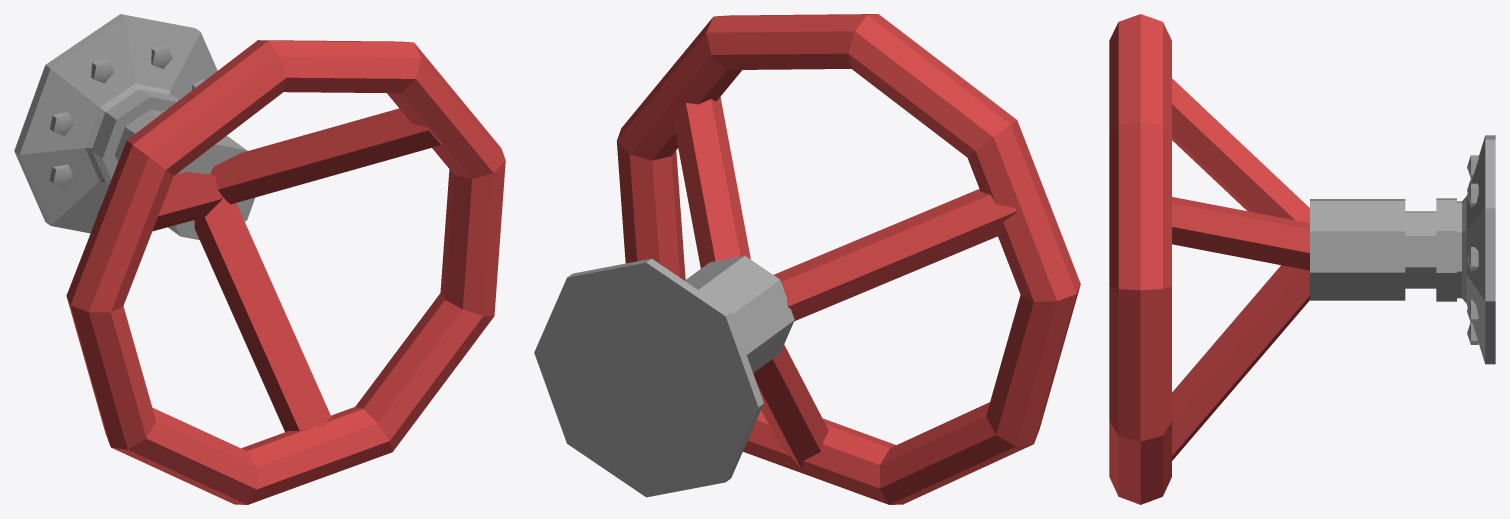
File: steamvalve.fbx
3 renders of one model, left to right at view 1: azimuth 30°, elevation 25°; view 2: azimuth 150°, elevation 25°; view 3: azimuth 270°, elevation 25°, orthographic. The views are drawn at different scales.
Parts seen in each view (by area): view 1: polySurface6, pCylinder18; view 2: polySurface6, pCylinder18; view 3: polySurface6, pCylinder18.
Boxes of the visible parts, box(x1,y1,x2,y2) form: polySurface6: box(66, 40, 505, 504); pCylinder18: box(14, 14, 254, 239); polySurface6: box(616, 14, 1080, 504); pCylinder18: box(534, 255, 794, 497); polySurface6: box(1109, 14, 1309, 504); pCylinder18: box(1310, 135, 1495, 364).
Bounding box in the file's own units: 16.36 × 16.52 × 12.78.
